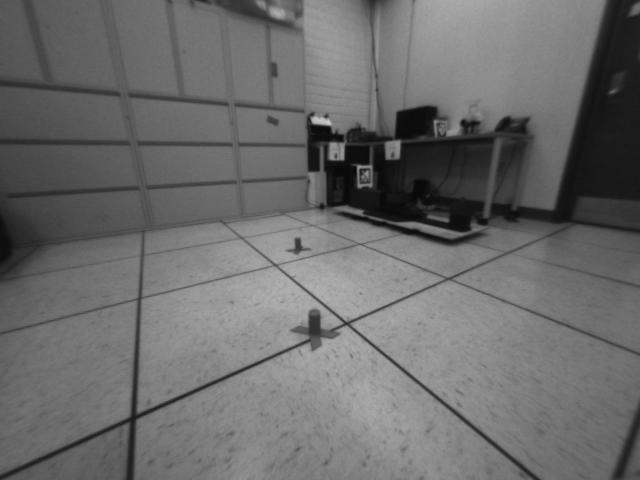X: (289, 308, 341, 353), (284, 236, 312, 256)
